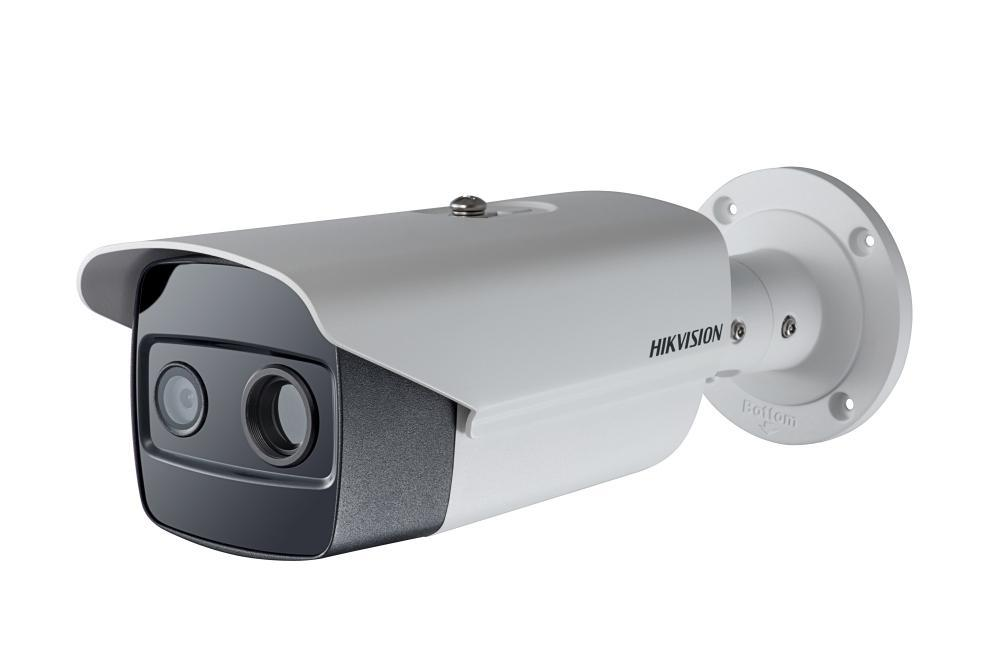CCTV: (76, 167, 917, 562)
